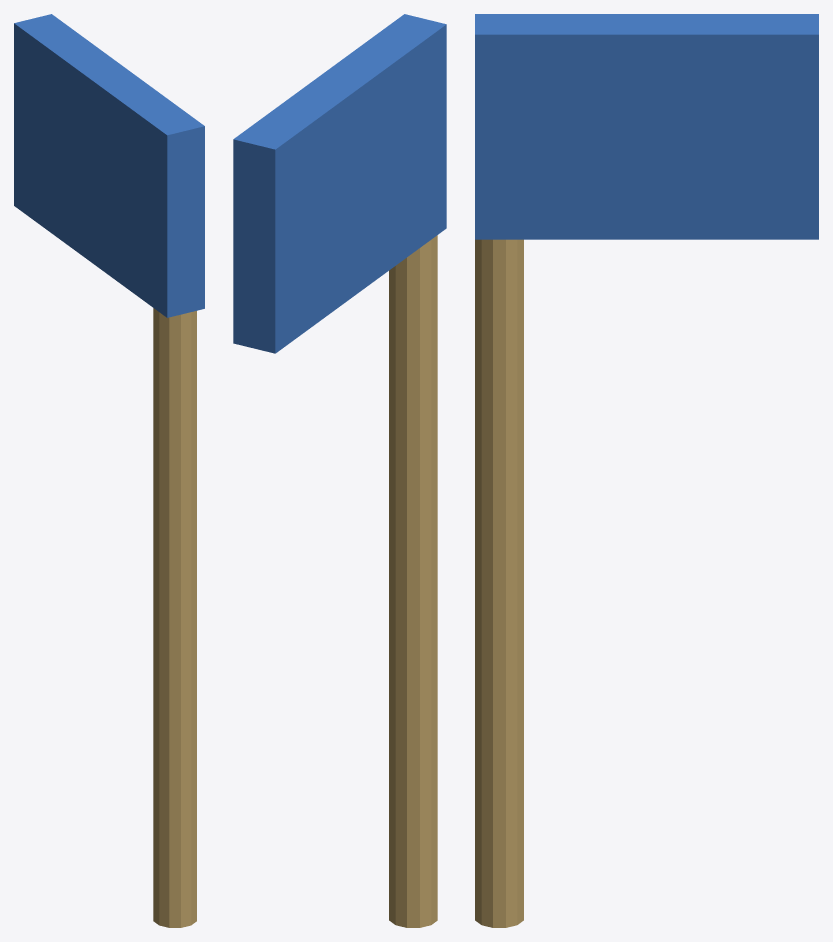
The model's file is flag.fbx.
3 views of the same model, side by side, from view 1: azimuth 30°, elevation 25°; view 2: azimuth 150°, elevation 25°; view 3: azimuth 270°, elevation 25° (orthographic). The views are drawn at different scales.
Parts seen in each view (by area): view 1: Cylinder; view 2: Cylinder; view 3: Cylinder.
Part boxes in pixels (x1,y1,x2,y2): Cylinder: [14, 14, 204, 927]; Cylinder: [233, 14, 446, 927]; Cylinder: [475, 14, 818, 927].
Size of the model in its own units: 38.64 by 779 by 272.
